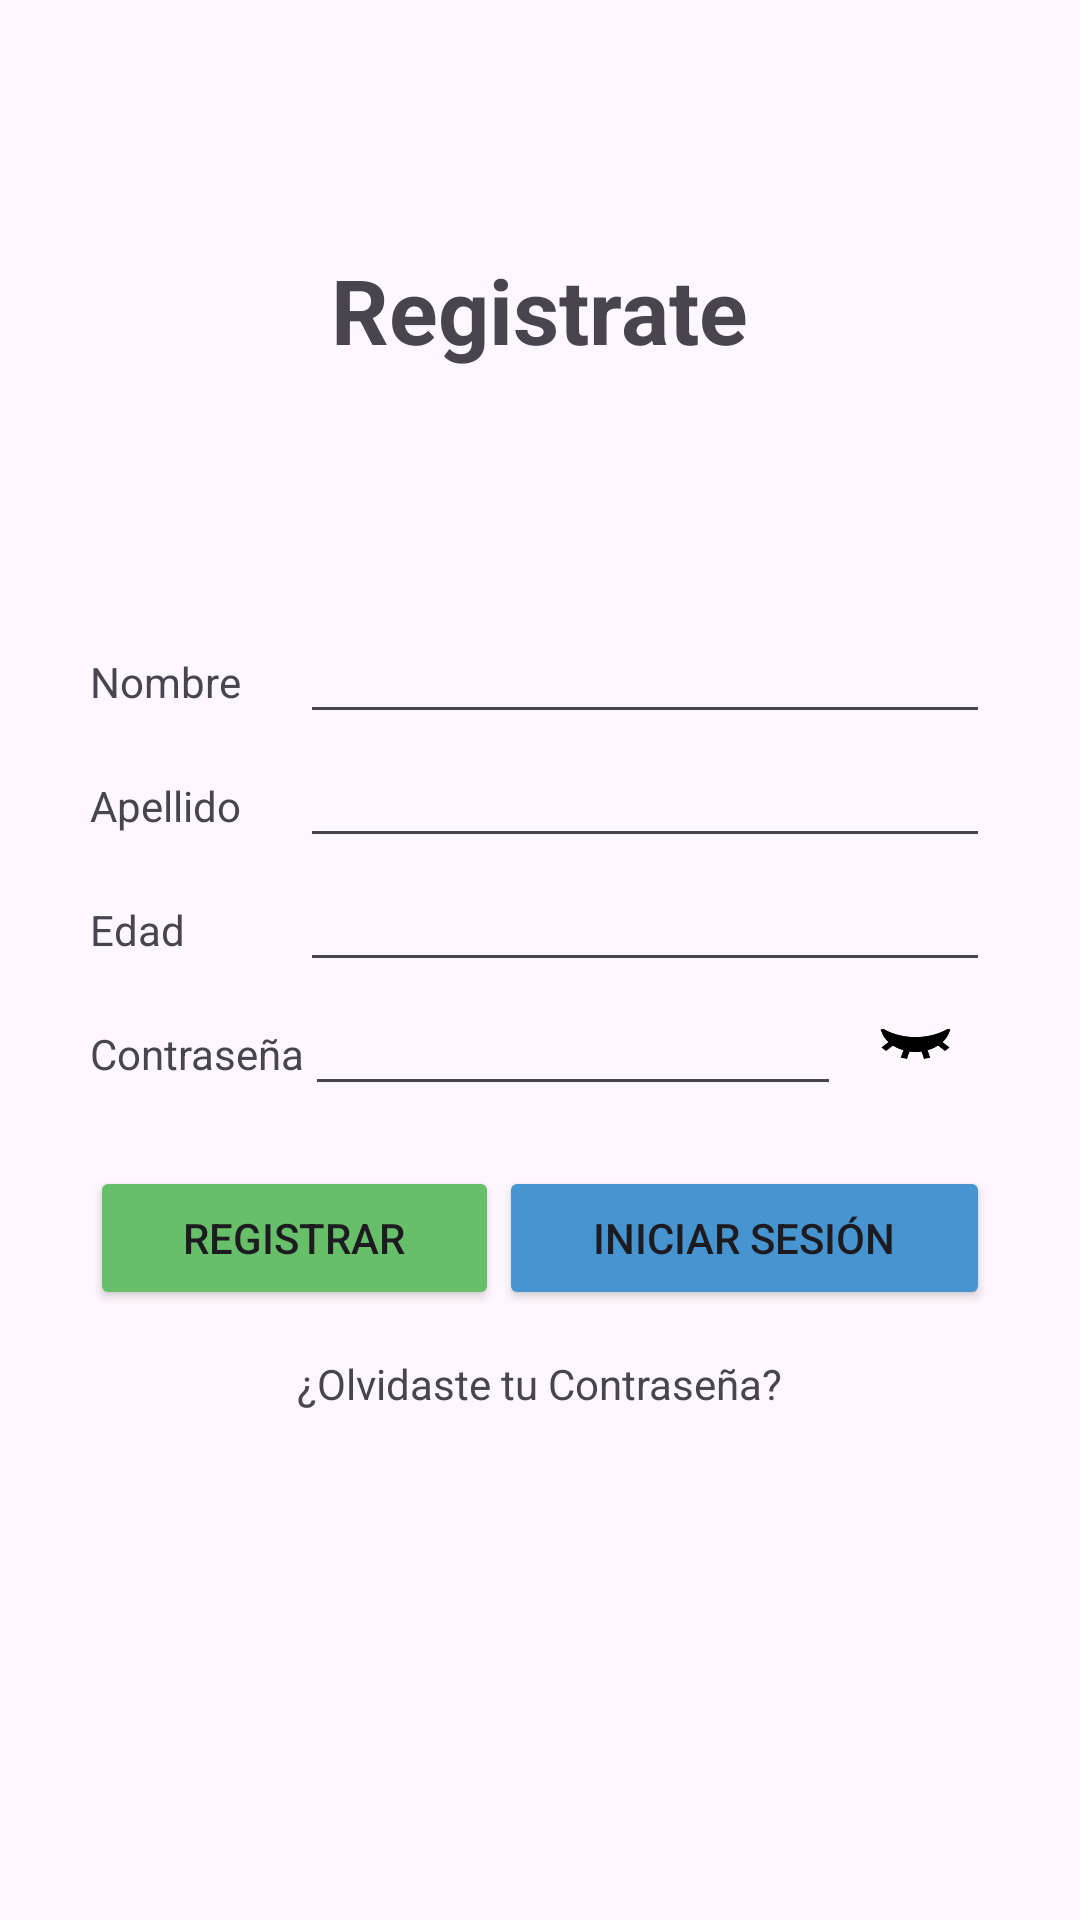

Where to tap for icons on this 1080x1920 app screen, as (x=x, y=y):
eye off: (x=915, y=1044)
